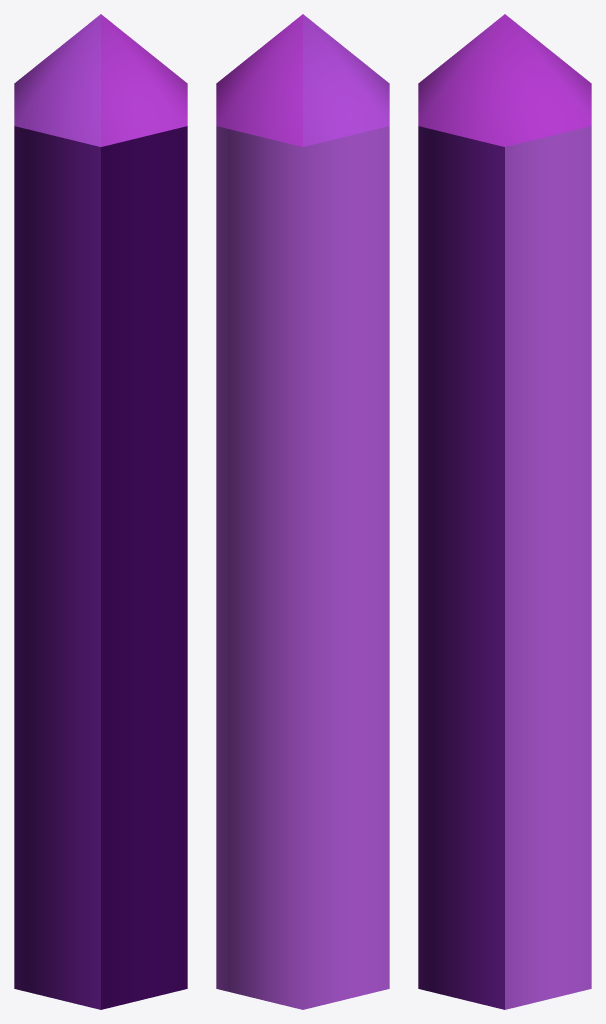
The model's file is Solo.RocketMesh.PurpleLightning.glb.
The picture shows the model from 3 angles, left to right: view 1: azimuth 30°, elevation 25°; view 2: azimuth 150°, elevation 25°; view 3: azimuth 270°, elevation 25°; orthographic projection.
Parts seen in each view (by area): view 1: Solo.RocketMesh.PurpleLightning; view 2: Solo.RocketMesh.PurpleLightning; view 3: Solo.RocketMesh.PurpleLightning.
Part boxes in pixels (x1,y1,x2,y2): Solo.RocketMesh.PurpleLightning: [14, 14, 187, 1009]; Solo.RocketMesh.PurpleLightning: [216, 14, 389, 1009]; Solo.RocketMesh.PurpleLightning: [418, 14, 591, 1009].
Size of the model in its own units: 0.2 by 1.05 by 0.1732.
Materials: 1 (1 with a texture image).
